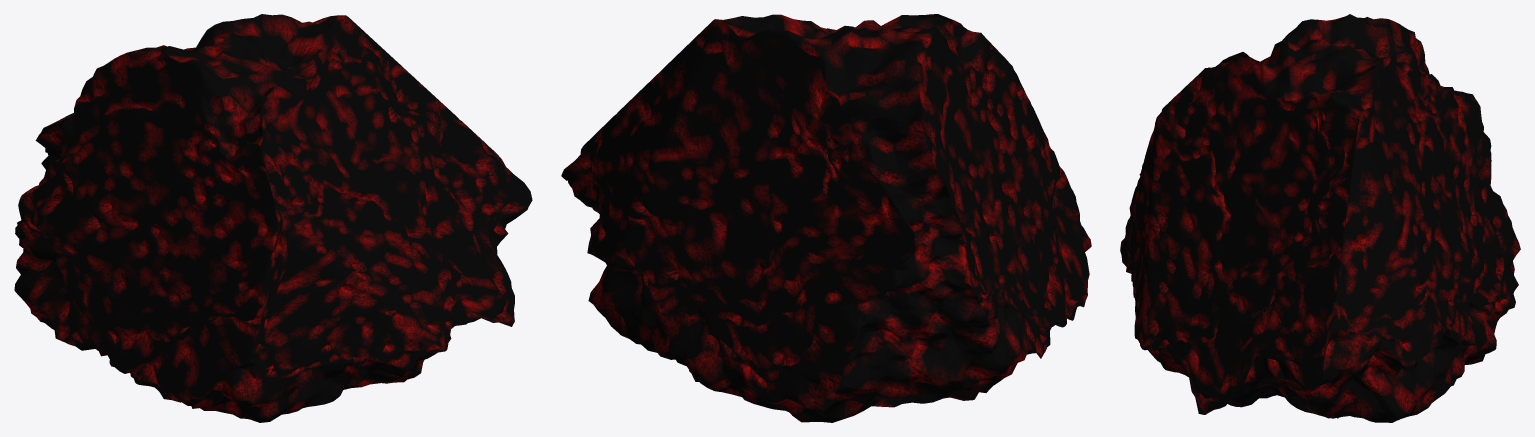
The model's file is rock.glb.
The picture shows the model from 3 angles, left to right: view 1: azimuth 30°, elevation 25°; view 2: azimuth 150°, elevation 25°; view 3: azimuth 270°, elevation 25°; orthographic projection. The views are drawn at different scales.
Visible parts, largest first — view 1: rock; view 2: rock; view 3: rock.
Boxes of the visible parts, x1,y1,x2,y2 form: rock: (14,14,532,422); rock: (561,14,1091,422); rock: (1120,14,1520,422).
Bounding box in the file's own units: 2.28 × 1.39 × 1.77.
Materials: 1 (1 with a texture image).
